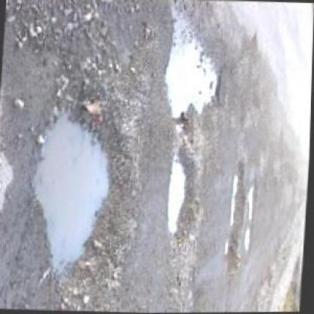Hueco: (24, 84, 146, 296), (161, 35, 227, 133), (167, 143, 201, 241), (223, 159, 248, 272), (246, 181, 260, 260)
